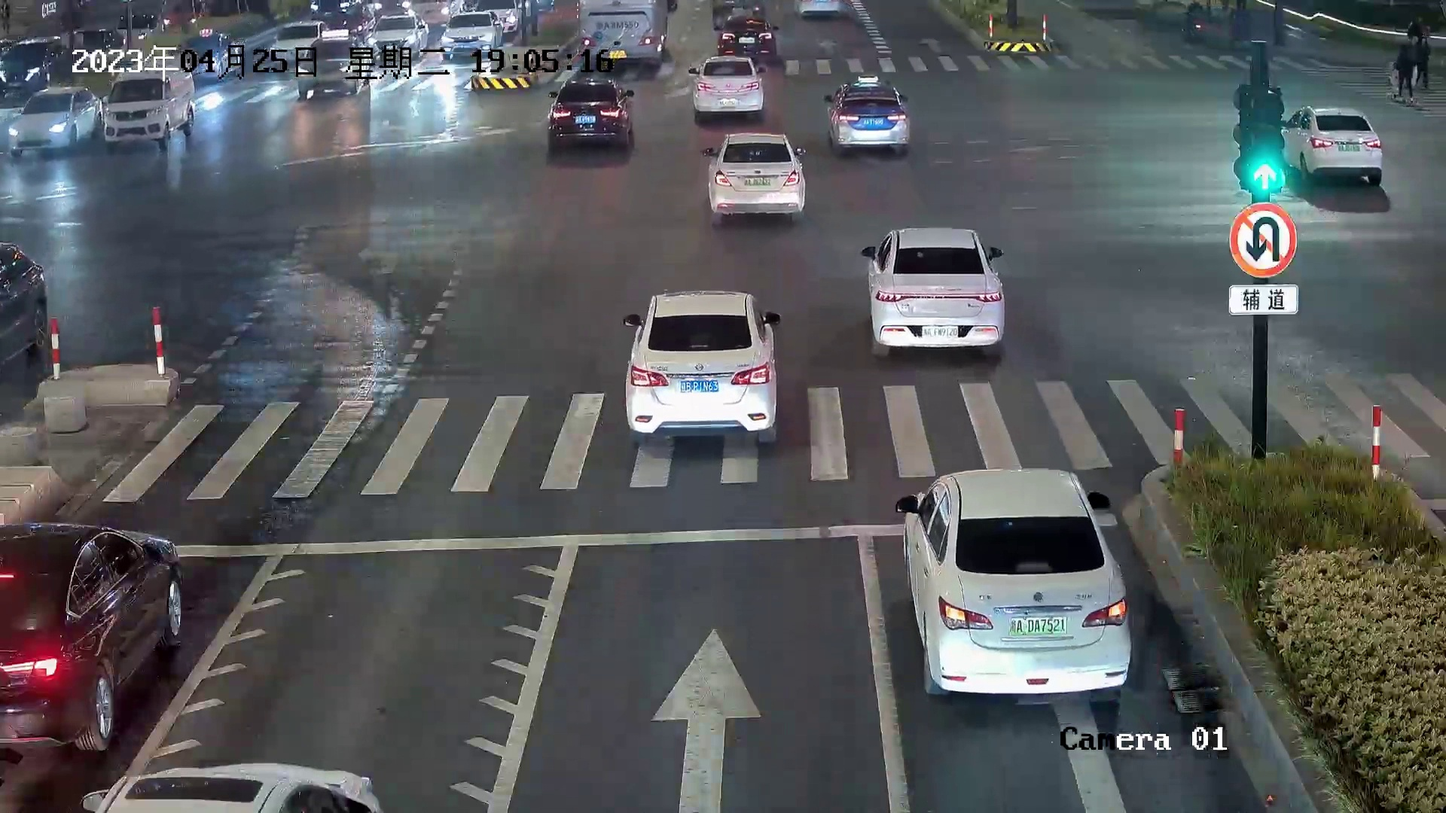person: (1387, 30, 1423, 108)
vehicle: (895, 466, 1134, 704), (0, 519, 187, 757), (620, 283, 781, 439), (855, 224, 1006, 359), (701, 127, 807, 218), (1285, 102, 1389, 188), (107, 69, 195, 150), (545, 74, 633, 148), (7, 82, 100, 150), (822, 74, 907, 148), (583, 0, 673, 67), (299, 32, 368, 103), (687, 55, 764, 117), (365, 13, 431, 63), (436, 8, 496, 58), (718, 18, 782, 56)
